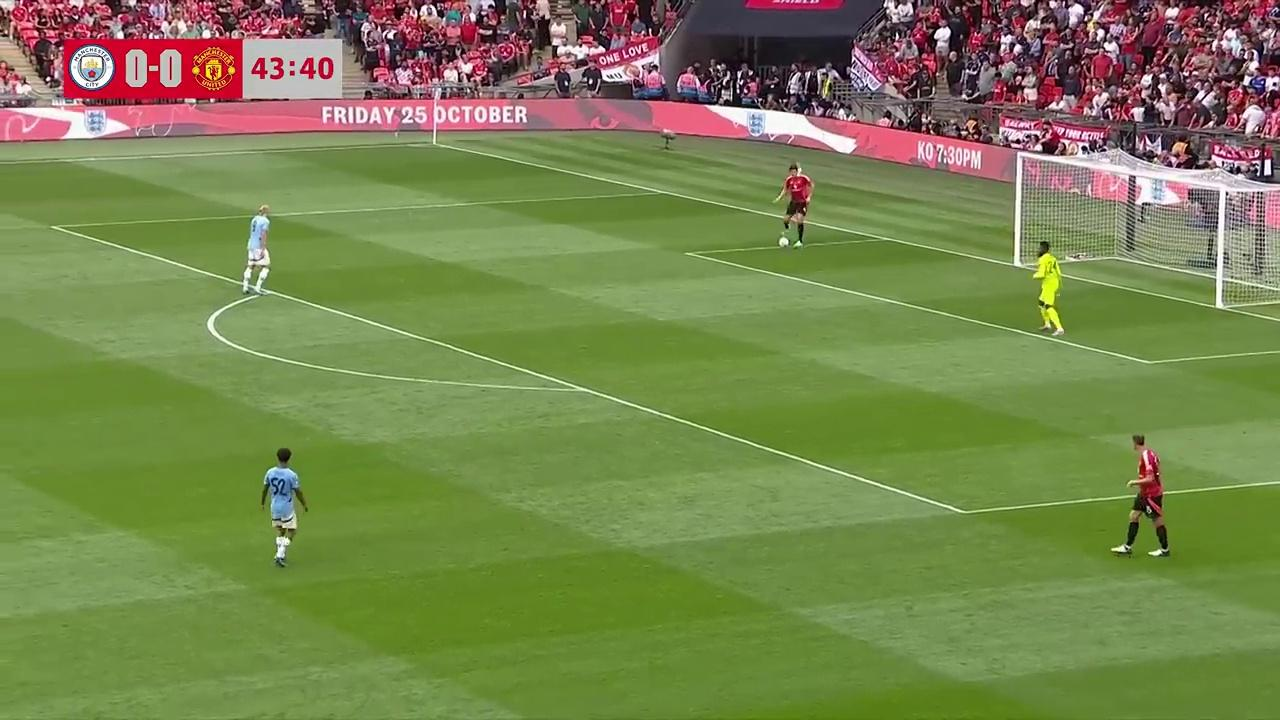ball: (778, 234, 790, 249)
player: (1115, 435, 1171, 557), (260, 448, 307, 568), (1031, 242, 1065, 336), (777, 168, 813, 247), (242, 215, 270, 297)
